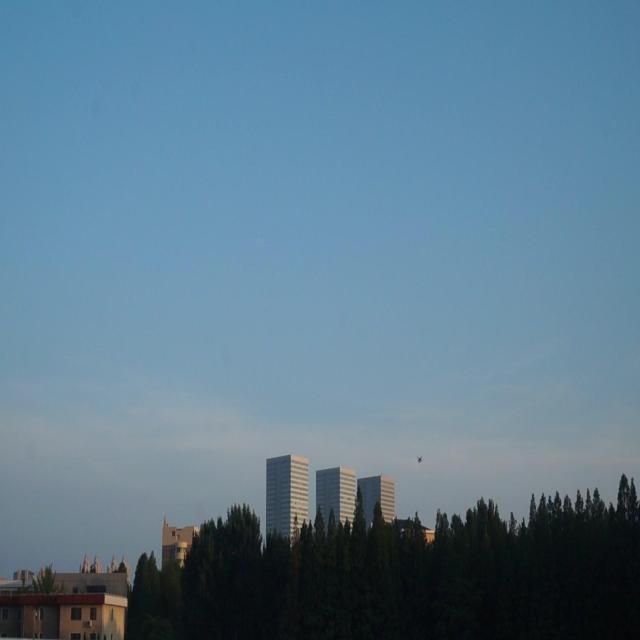drone: (416, 452, 424, 467)
